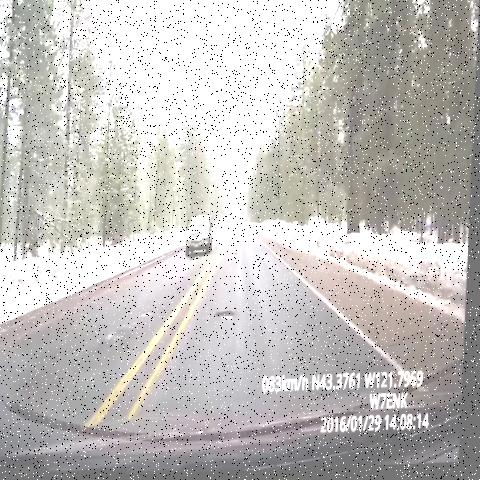pothole: (100, 320, 151, 366), (212, 302, 245, 329), (231, 249, 245, 263)
